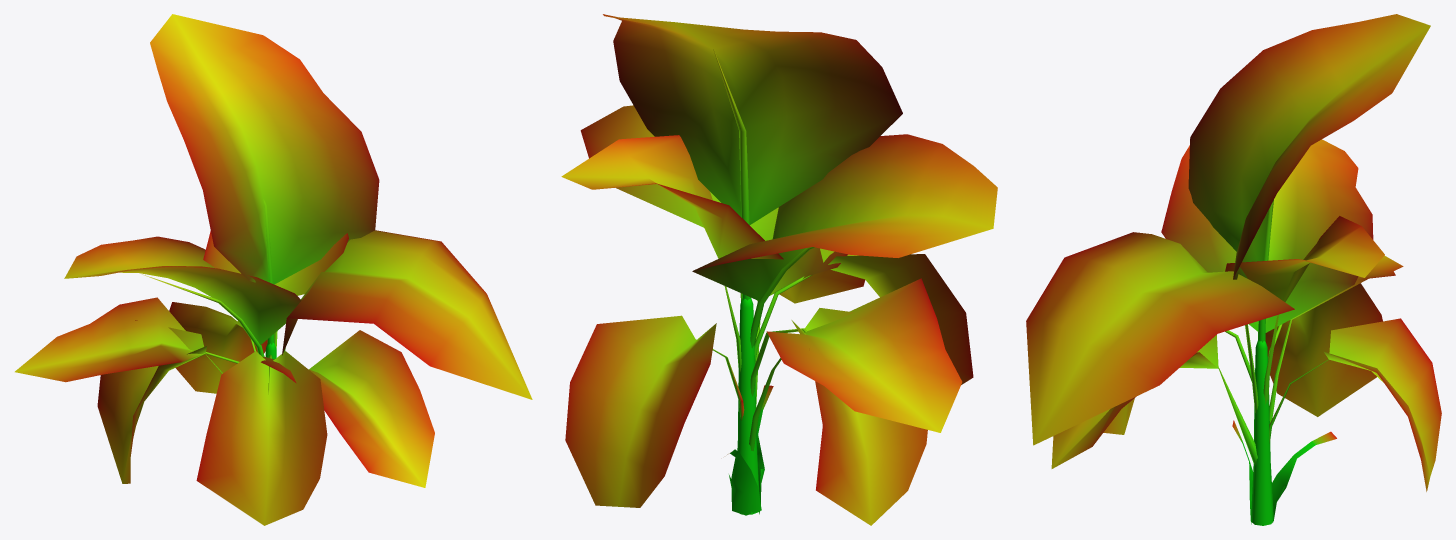
The model's file is Cat Palm_LOD1_Var2_tjejafeia.fbx.
3 views of the same model, side by side, from view 1: azimuth 30°, elevation 25°; view 2: azimuth 150°, elevation 25°; view 3: azimuth 270°, elevation 25° (orthographic). The views are drawn at different scales.
Parts seen in each view (by area): view 1: _c2b9_Var2_LOD1; view 2: _c2b9_Var2_LOD1; view 3: _c2b9_Var2_LOD1.
Boxes of the visible parts, x1=… form: _c2b9_Var2_LOD1: x1=15, y1=14, x2=532, y2=525; _c2b9_Var2_LOD1: x1=561, y1=14, x2=997, y2=525; _c2b9_Var2_LOD1: x1=1026, y1=14, x2=1441, y2=525.
Size of the model in its own units: 99.87 by 113 by 87.93.
